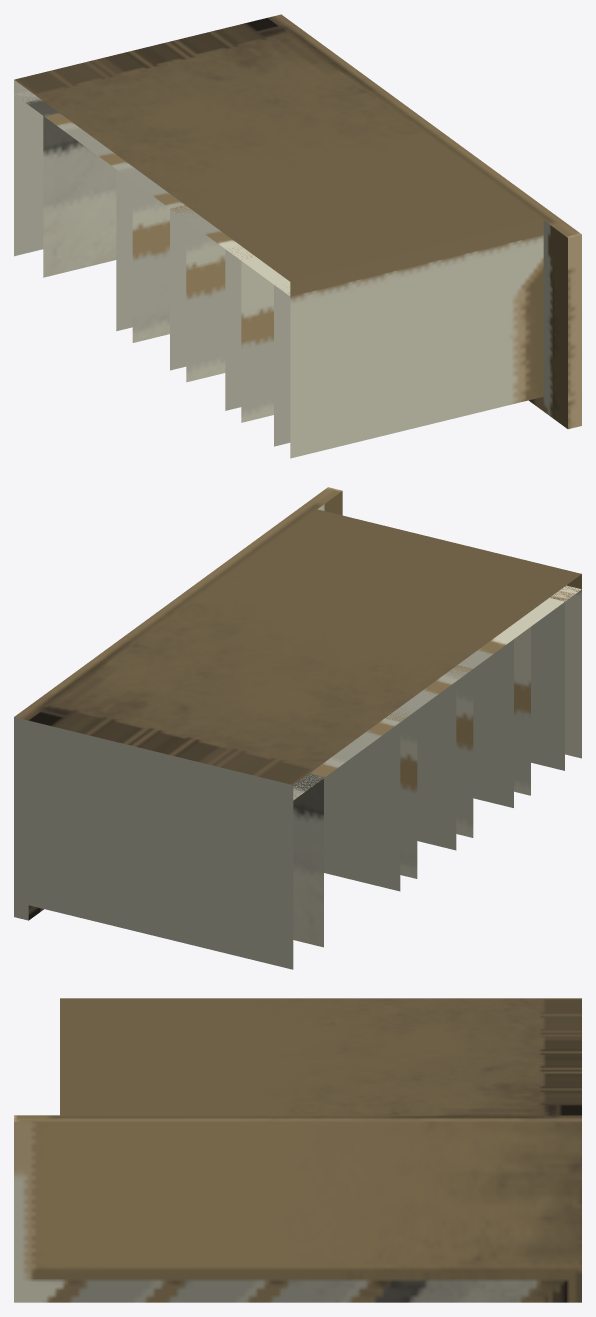
File: pz_g022_location_shop_generic_01_large_shop_shelves_part0.obj
The picture shows the model from 3 angles, top to bottom: view 1: azimuth 30°, elevation 25°; view 2: azimuth 150°, elevation 25°; view 3: azimuth 270°, elevation 25°; orthographic projection. The views are drawn at different scales.
Visible parts, largest first — view 1: rear_panel_front, open_shelf_4_top, open_shelf_0_top, open_shelf_2_top, open_shelf_1_top, left_end_right, open_shelf_3_top, open_shelf_0_bottom, left_end_front, rear_panel_rear, rear_panel_top, left_end_top (+4 smaller); view 2: rear_panel_front, open_shelf_0_bottom, open_shelf_1_bottom, open_shelf_3_bottom, open_shelf_2_bottom, open_shelf_4_bottom, open_shelf_0_top, left_end_front, rear_panel_rear, rear_panel_bottom, left_end_bottom, open_shelf_1_top (+3 smaller); view 3: left_end_left, rear_panel_front, left_end_front.
Boxes of the visible parts, <box> form: rear_panel_front: <box>14,18,542,281</box>; open_shelf_4_top: <box>290,235,543,458</box>; open_shelf_0_top: <box>43,116,116,277</box>; open_shelf_2_top: <box>186,221,225,382</box>; open_shelf_1_top: <box>132,181,169,342</box>; left_end_right: <box>529,220,567,428</box>; open_shelf_3_top: <box>241,261,273,422</box>; open_shelf_0_bottom: <box>14,94,43,256</box>; left_end_front: <box>267,14,581,237</box>; rear_panel_rear: <box>14,91,290,295</box>; rear_panel_top: <box>290,220,543,296</box>; left_end_top: <box>568,234,581,429</box>; rear_panel_front: <box>29,509,581,784</box>; open_shelf_0_bottom: <box>28,736,293,969</box>; open_shelf_1_bottom: <box>324,722,400,891</box>; open_shelf_3_bottom: <box>473,639,513,807</box>; open_shelf_2_bottom: <box>417,681,456,850</box>; open_shelf_4_bottom: <box>531,602,564,770</box>; open_shelf_0_top: <box>293,778,323,947</box>; left_end_front: <box>14,487,342,720</box>; rear_panel_rear: <box>293,585,581,800</box>; rear_panel_bottom: <box>28,720,293,800</box>; left_end_bottom: <box>14,717,28,920</box>; open_shelf_1_top: <box>400,710,417,878</box>; left_end_left: <box>14,1121,581,1302</box>; rear_panel_front: <box>60,998,581,1115</box>; left_end_front: <box>14,1115,581,1121</box>.
Bounding box in the file's own units: 0.95 × 0.65 × 1.85.
1 material, 1 textured.
